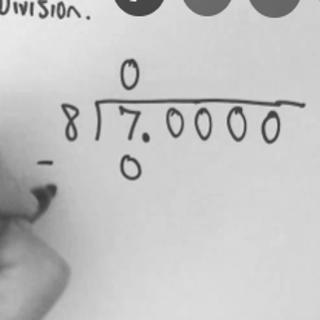.: (138, 130, 154, 144)
0: (118, 55, 144, 97), (258, 108, 285, 145), (226, 105, 250, 144), (191, 109, 215, 144), (164, 104, 186, 142), (121, 155, 148, 183)
7: (118, 104, 143, 140)
8: (60, 102, 80, 144)
